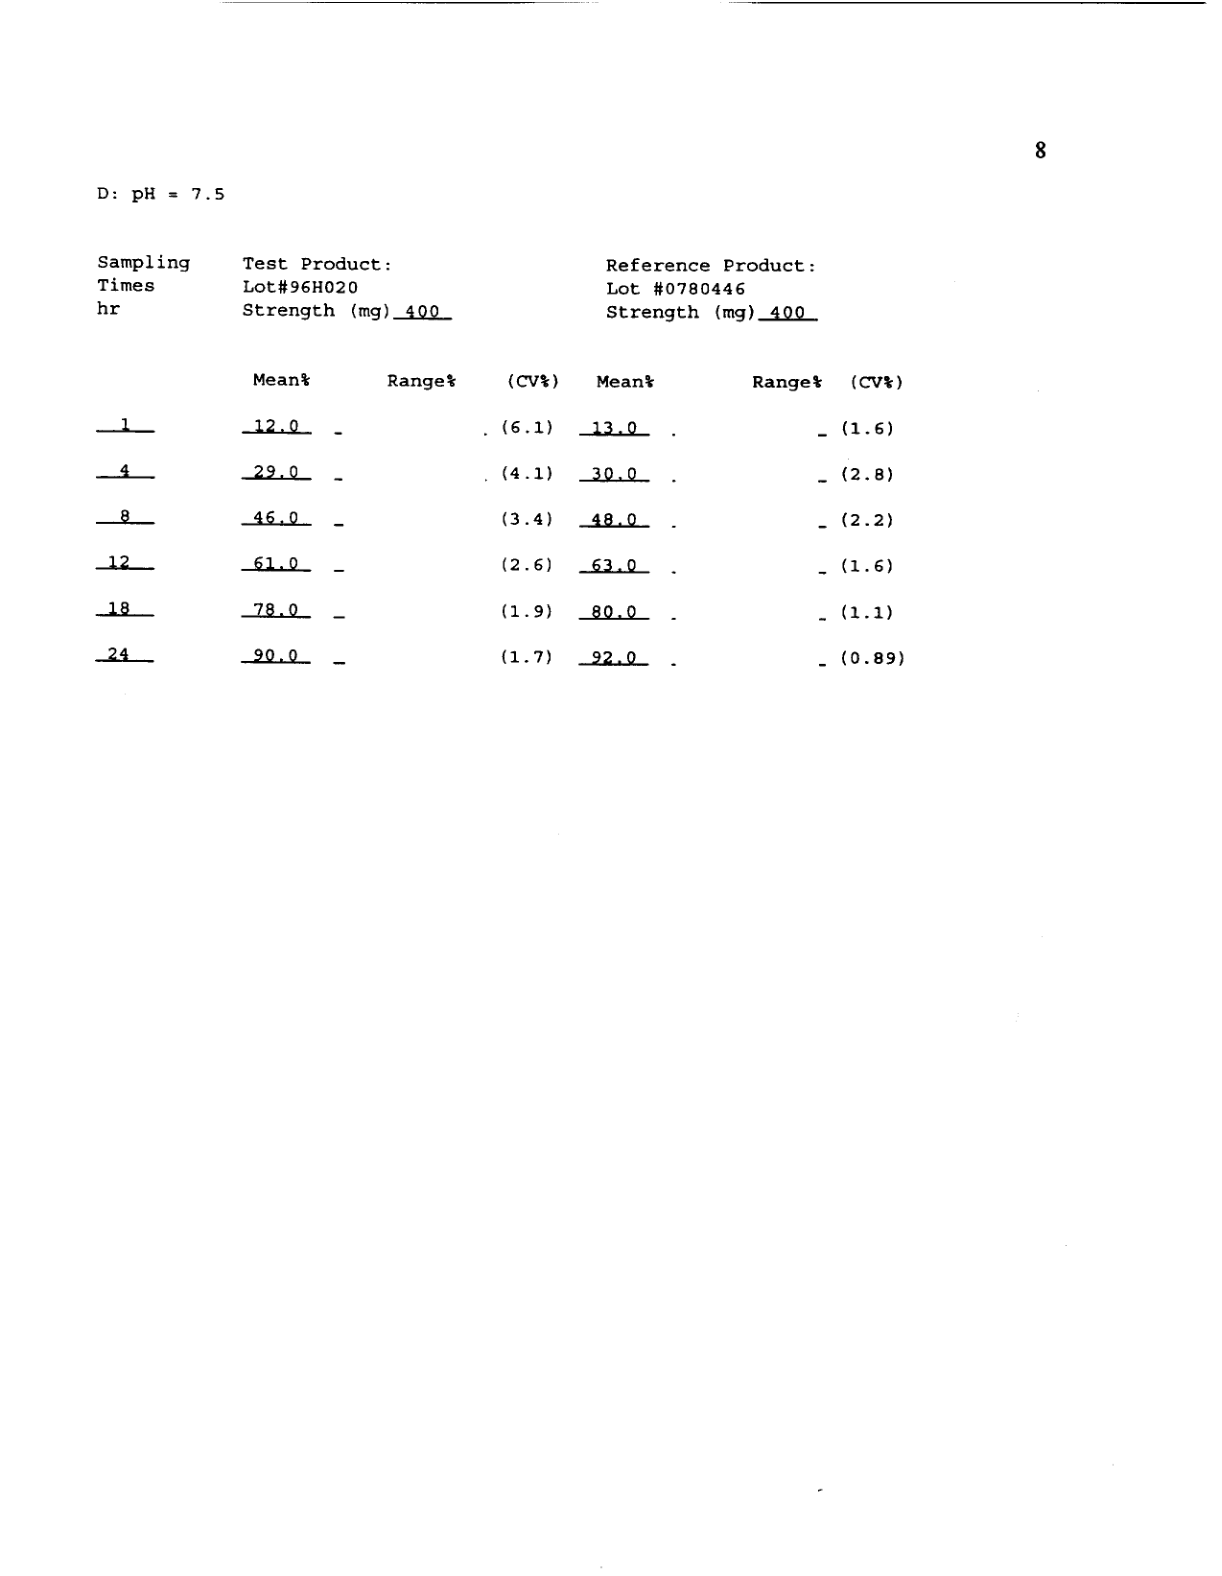nolines: (93, 249, 903, 669)
